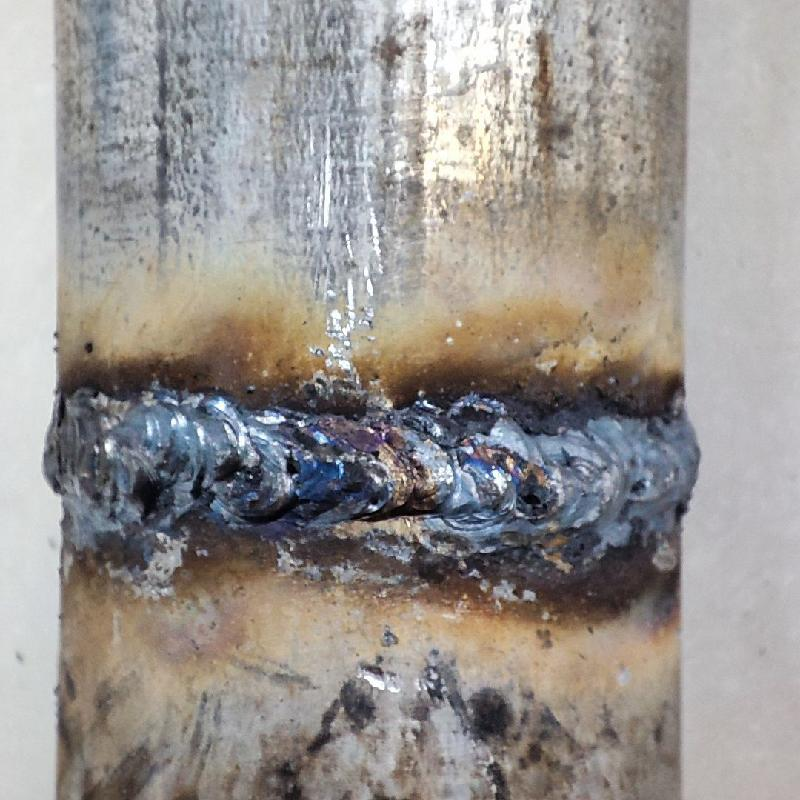Surface_pores: (514, 473, 564, 522), (271, 440, 307, 492)
good: (33, 380, 704, 547)
